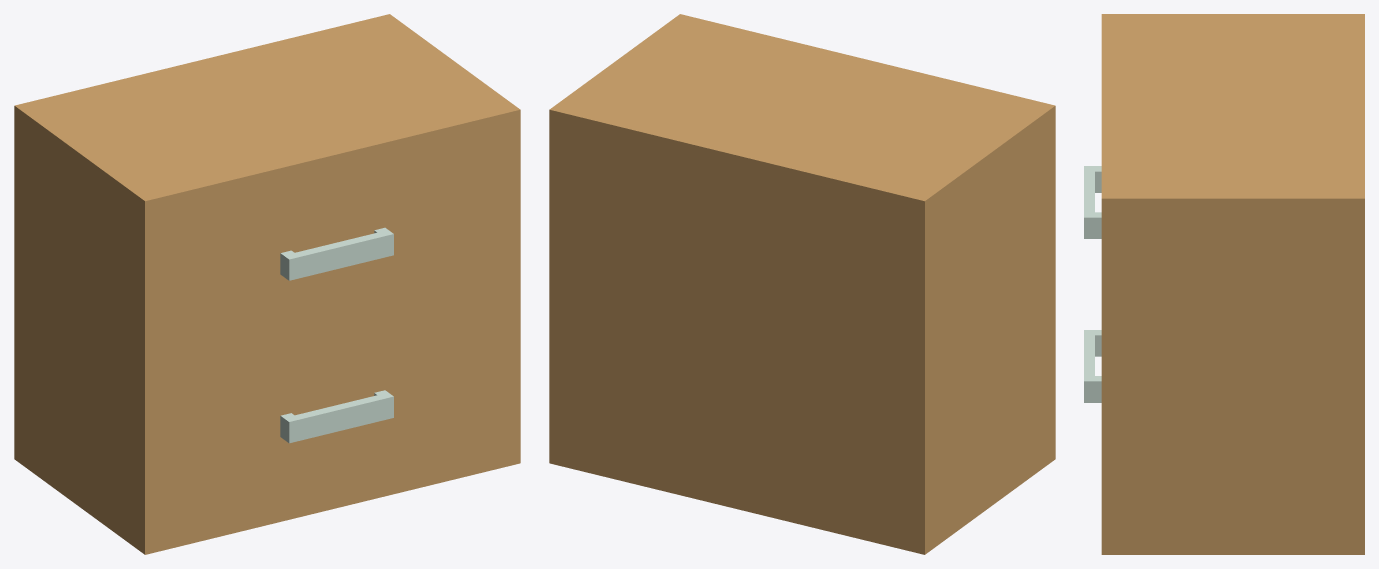
File: f_dresser.glb
3 views of the same model, side by side, from view 1: azimuth 30°, elevation 25°; view 2: azimuth 150°, elevation 25°; view 3: azimuth 270°, elevation 25° (orthographic).
Visible parts, largest first — view 1: body, leaf_1, leaf_2; view 2: body; view 3: body, leaf_1, leaf_2.
Boxes of the visible parts, x1,y1,x2,y2 form: body: [14, 14, 520, 554]; leaf_1: [168, 306, 496, 520]; leaf_2: [168, 144, 496, 357]; body: [549, 14, 1055, 554]; body: [1101, 14, 1364, 554]; leaf_1: [1084, 330, 1101, 402]; leaf_2: [1084, 166, 1101, 238].
Bounding box in the file's own units: 0.995 × 0.8957 × 0.64.
